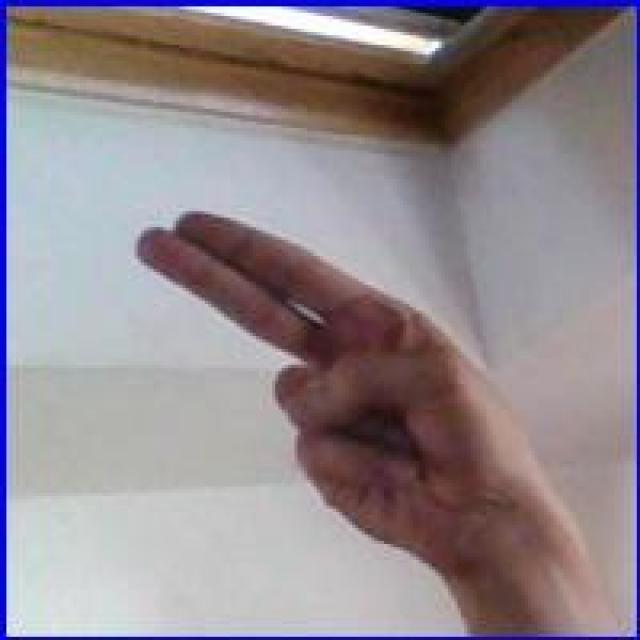H: (133, 203, 565, 600)
